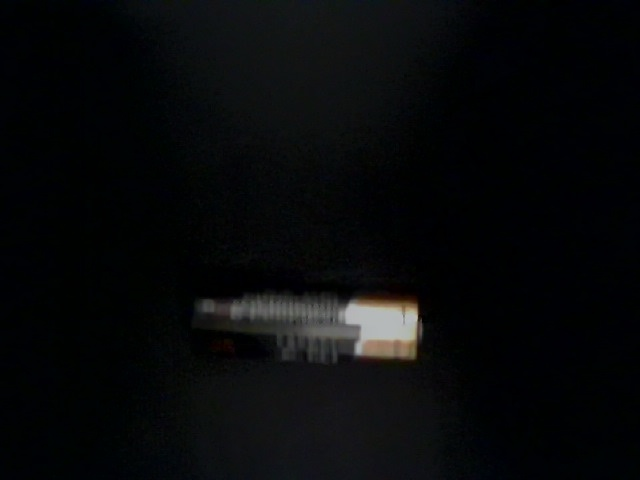QTLJ: (365, 308, 618, 476)
